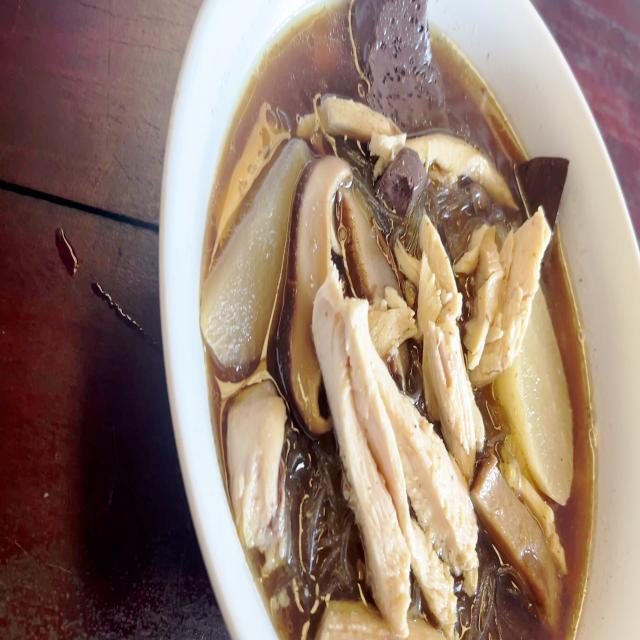boiled_chicken_blood_jelly: (344, 0, 444, 129), (379, 146, 421, 218), (524, 148, 560, 216)
chicken_shredded: (326, 290, 462, 597), (420, 220, 479, 467), (479, 216, 548, 365), (232, 383, 282, 520), (315, 599, 446, 640), (297, 98, 395, 140), (407, 139, 523, 173)
daikon_radish: (203, 138, 300, 365), (508, 316, 574, 505)
noodle: (204, 0, 594, 640)
